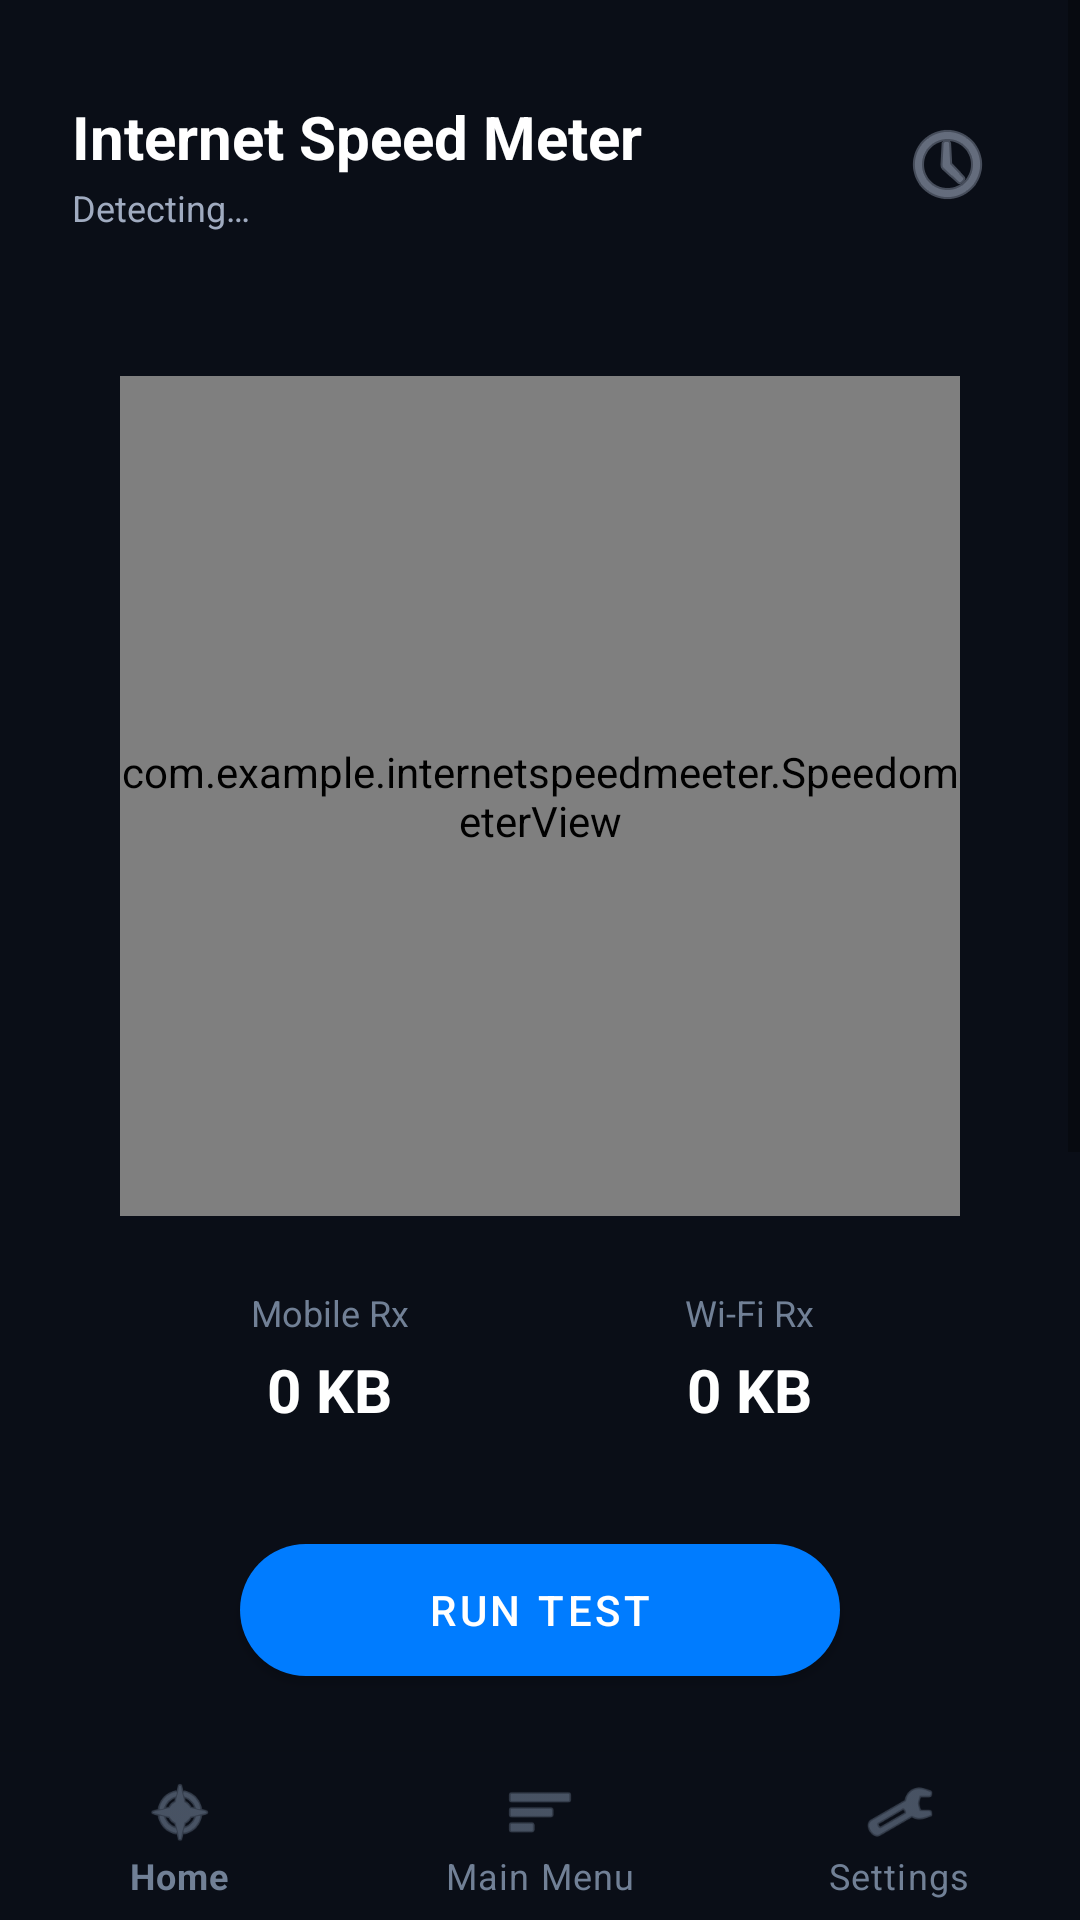

Point at icon controls on the screen. Image size 1080px x 1920px, points as (x,y).
History: (947,164)
